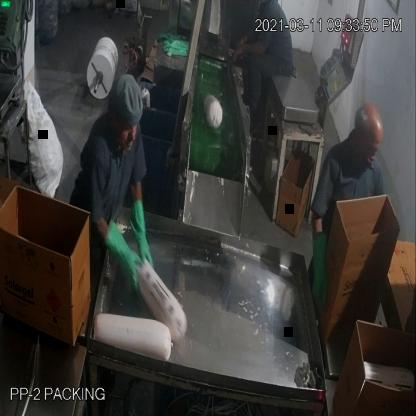glove: (102, 210, 146, 299), (310, 222, 334, 326), (128, 192, 154, 273)
no_glove: (233, 38, 269, 70)
